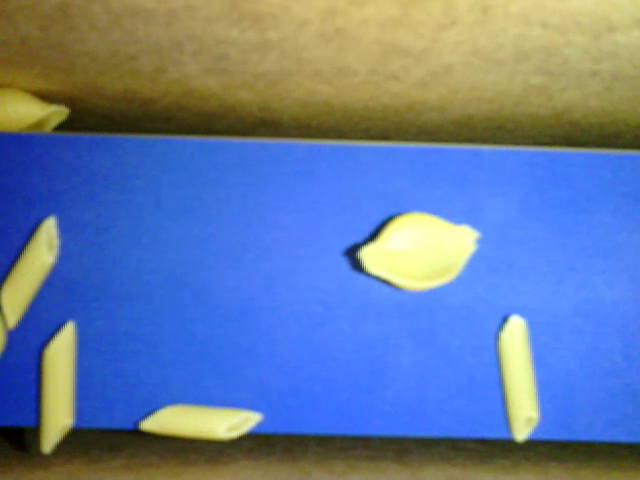penne: (1, 213, 62, 330), (36, 315, 77, 457), (496, 312, 539, 443), (136, 401, 263, 441)
shell: (353, 208, 480, 292), (1, 85, 79, 133)
